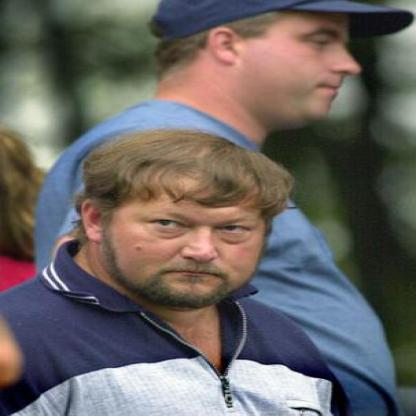face: (102, 143, 279, 311), (235, 1, 381, 125)
